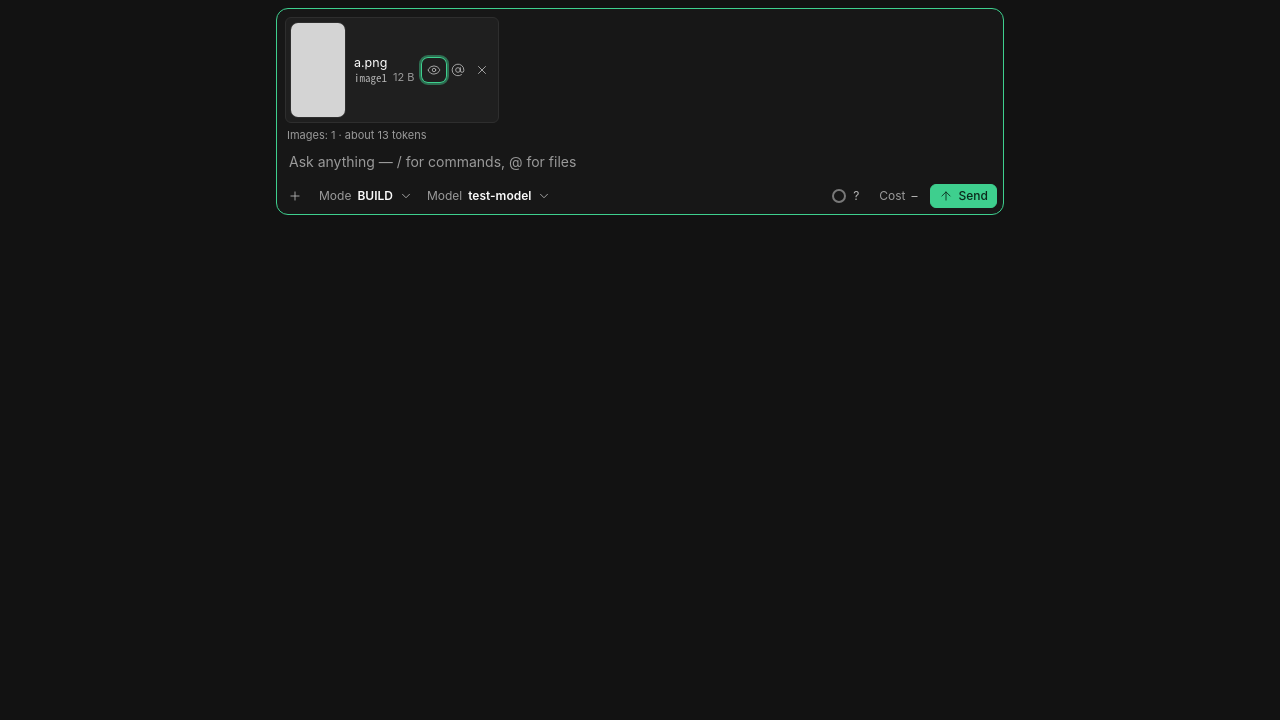
it: previewing a picture in the tray (AC-U4) › opens the processed picture from a data: URL and returns focus to the button
Step 1. Click the button named "Preview a.png" → (434, 70), box [422,58,446,82]
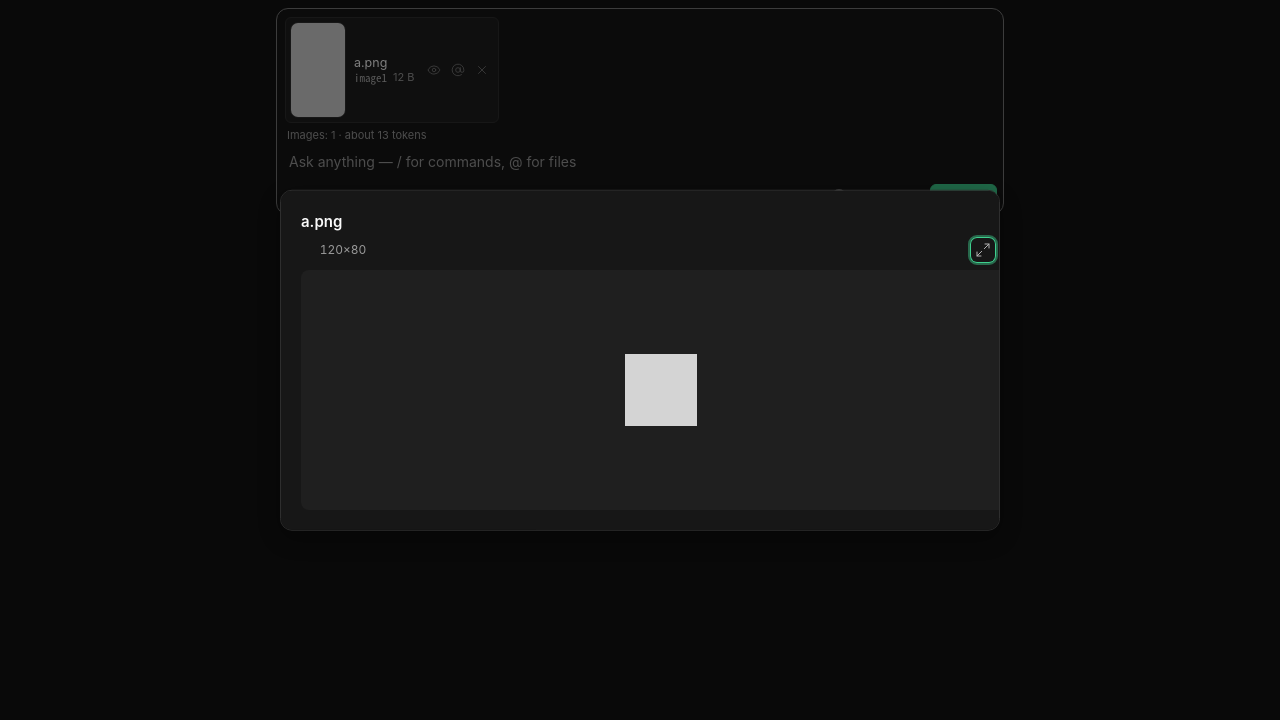
Step 2. Press Escape in the button named "Actual size", box [971,237,995,261]
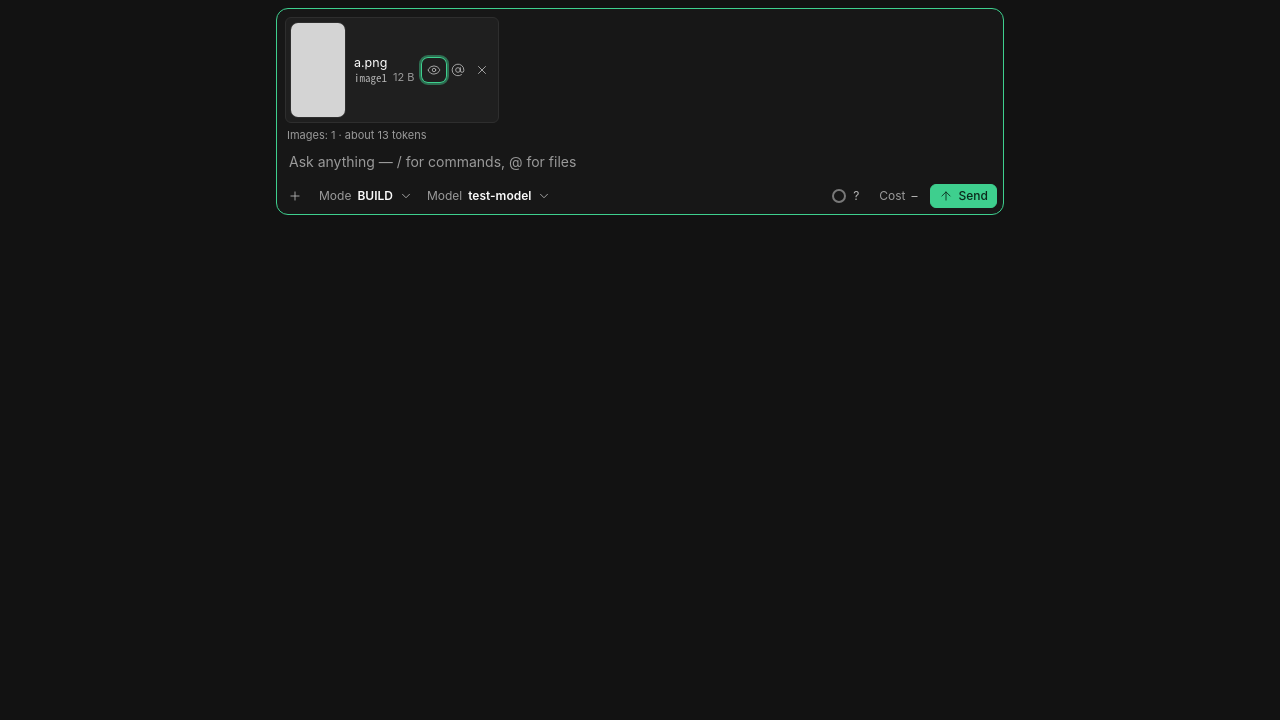
Now the dialog is gone
